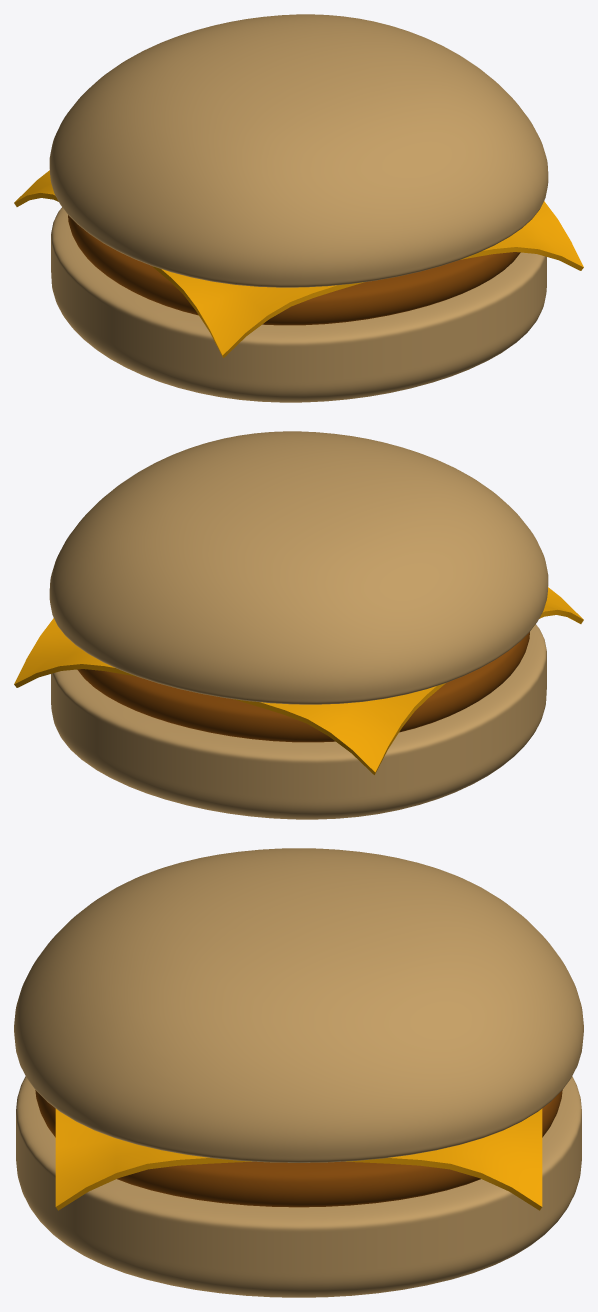
Rendered from hamburger.glb.
The picture shows the model from 3 angles, top to bottom: view 1: azimuth 30°, elevation 25°; view 2: azimuth 150°, elevation 25°; view 3: azimuth 270°, elevation 25°; orthographic projection. The views are drawn at different scales.
Parts seen in each view (by area): view 1: Cube.002, Cube, Cube.001, Plane; view 2: Cube.002, Cube, Cube.001, Plane; view 3: Cube.002, Cube, Cube.001, Plane.
Part boxes in pixels (x1,y1,x2,y2): Cube.002: [49, 14, 548, 287]; Cube: [51, 207, 546, 402]; Cube.001: [68, 215, 520, 325]; Plane: [14, 170, 583, 357]; Cube.002: [49, 431, 548, 704]; Cube: [51, 624, 546, 819]; Cube.001: [77, 632, 529, 742]; Plane: [14, 587, 583, 774]; Cube.002: [14, 848, 583, 1162]; Cube: [16, 1076, 581, 1297]; Cube.001: [35, 1090, 562, 1207]; Plane: [55, 1108, 542, 1210].
Bounding box in the file's own units: 7.17 × 4.34 × 7.17.
